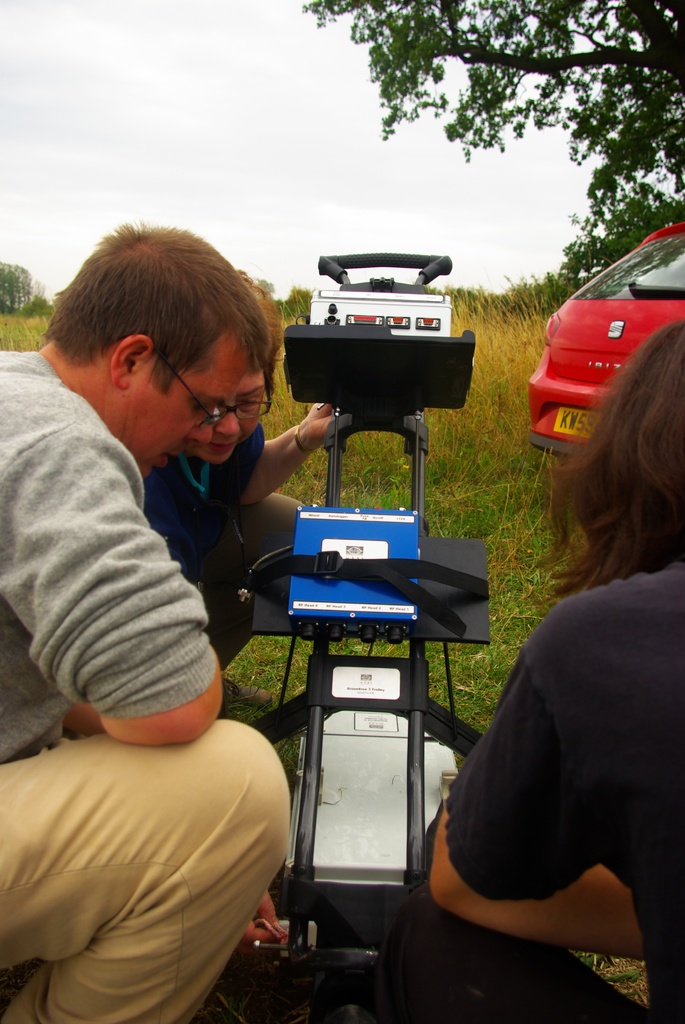Car: (525, 212, 684, 453)
